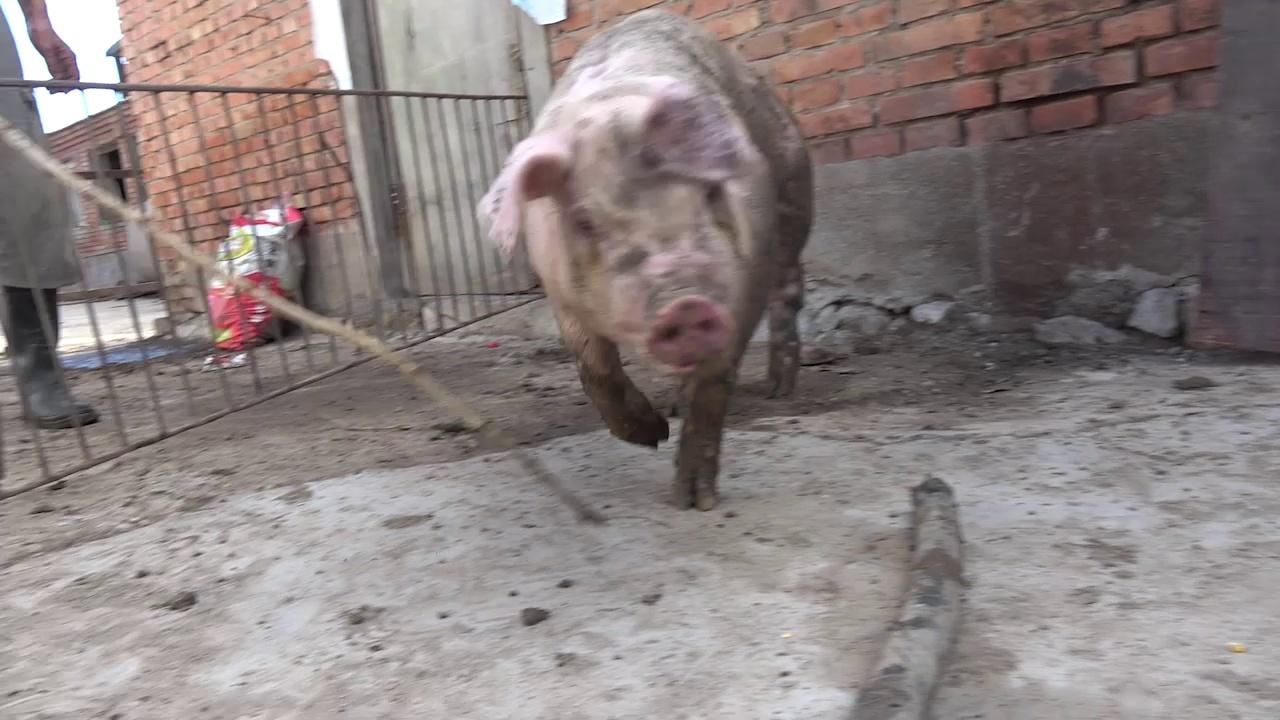Face: (480, 83, 787, 394)
